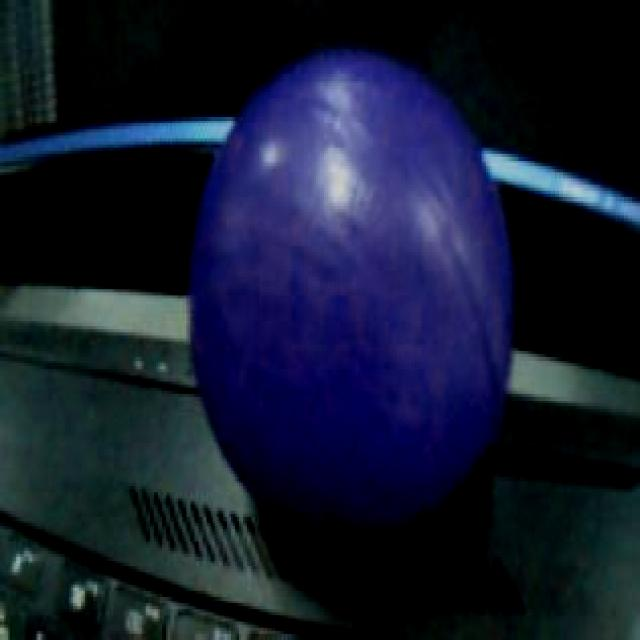BallPurple: (189, 41, 516, 542)
